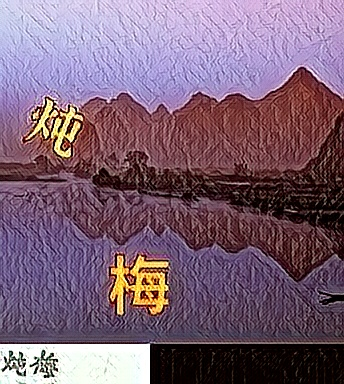C3B7: (107, 251, 169, 315)
ECC0: (21, 92, 83, 156)
